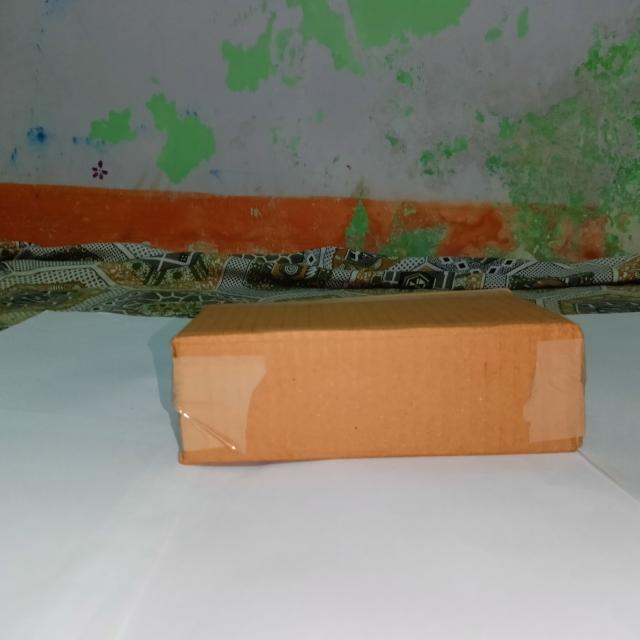box: (174, 323, 587, 461)
